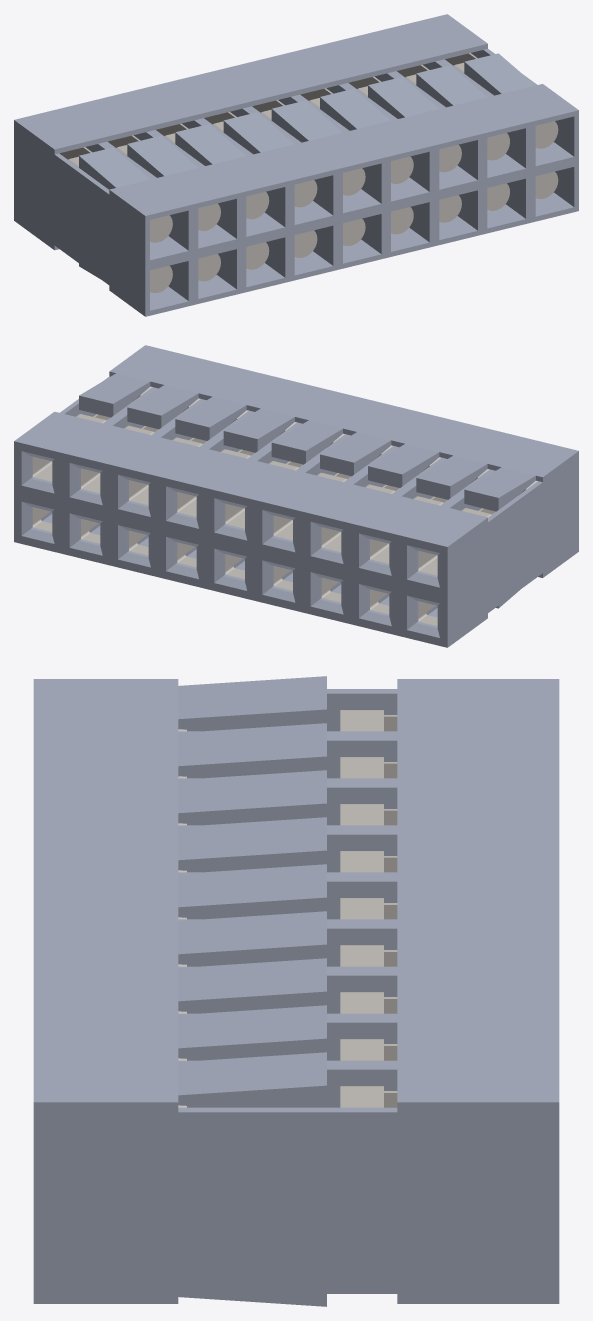
3 renders of one model, top to bottom at view 1: azimuth 30°, elevation 25°; view 2: azimuth 150°, elevation 25°; view 3: azimuth 270°, elevation 25°, orthographic. The views are drawn at different scales.
Visible parts, largest first — view 1: DS1071-2x9; view 2: DS1071-2x9; view 3: DS1071-2x9.
Boxes of the visible parts, x1,y1,x2,y2 form: DS1071-2x9: (14,14,578,316); DS1071-2x9: (14,345,578,647); DS1071-2x9: (33,676,559,1306).
Bounding box in the file's own units: 0.0186 × 0.00453 × 0.00974.
